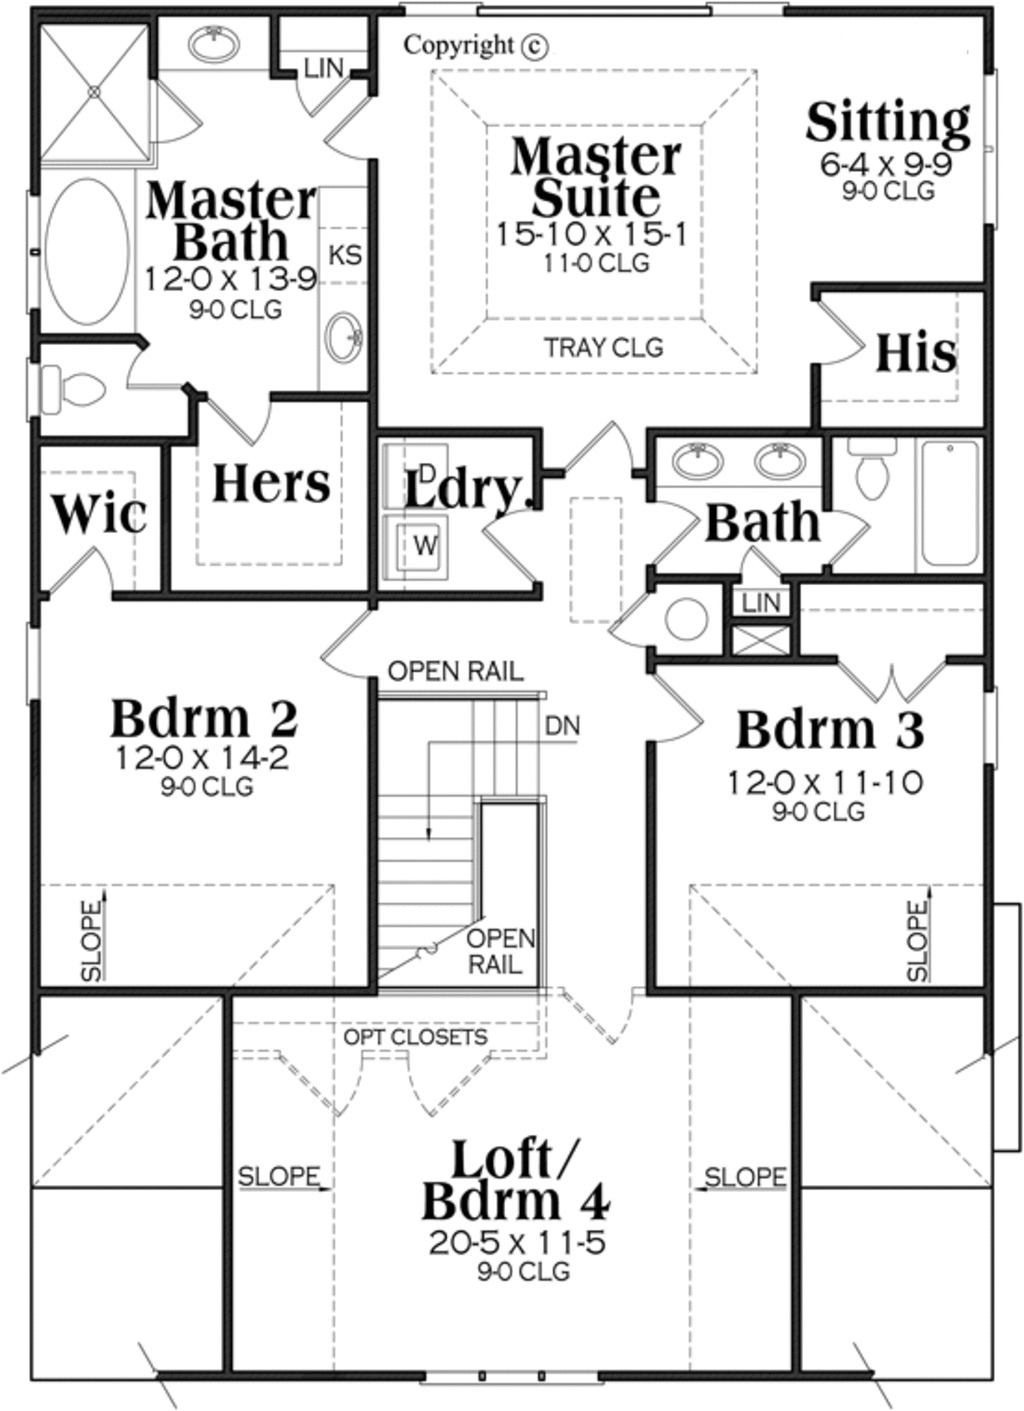door: (394, 1031, 496, 1131), (628, 663, 725, 757), (540, 405, 646, 485), (286, 1035, 381, 1119), (309, 596, 392, 689), (803, 294, 881, 389), (196, 374, 290, 450), (562, 983, 651, 1062), (829, 652, 946, 711), (331, 72, 399, 170), (638, 483, 697, 587), (51, 528, 125, 603), (151, 65, 209, 148), (129, 324, 183, 398), (727, 528, 789, 592), (829, 502, 877, 581), (299, 59, 353, 115)
large_sink: (25, 333, 120, 433), (836, 433, 907, 500)
small_sink: (651, 422, 822, 485), (159, 2, 281, 68), (304, 283, 370, 387)
stairs: (368, 674, 573, 976)
tub: (38, 168, 133, 337), (909, 418, 994, 578)
window: (959, 55, 1023, 248), (433, 1360, 612, 1402), (968, 681, 1019, 807), (9, 626, 70, 722)
